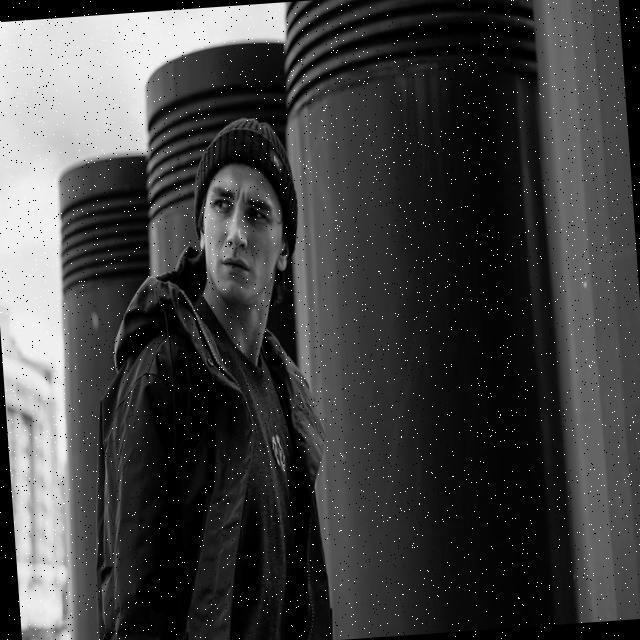Sadness: (200, 166, 284, 303)
